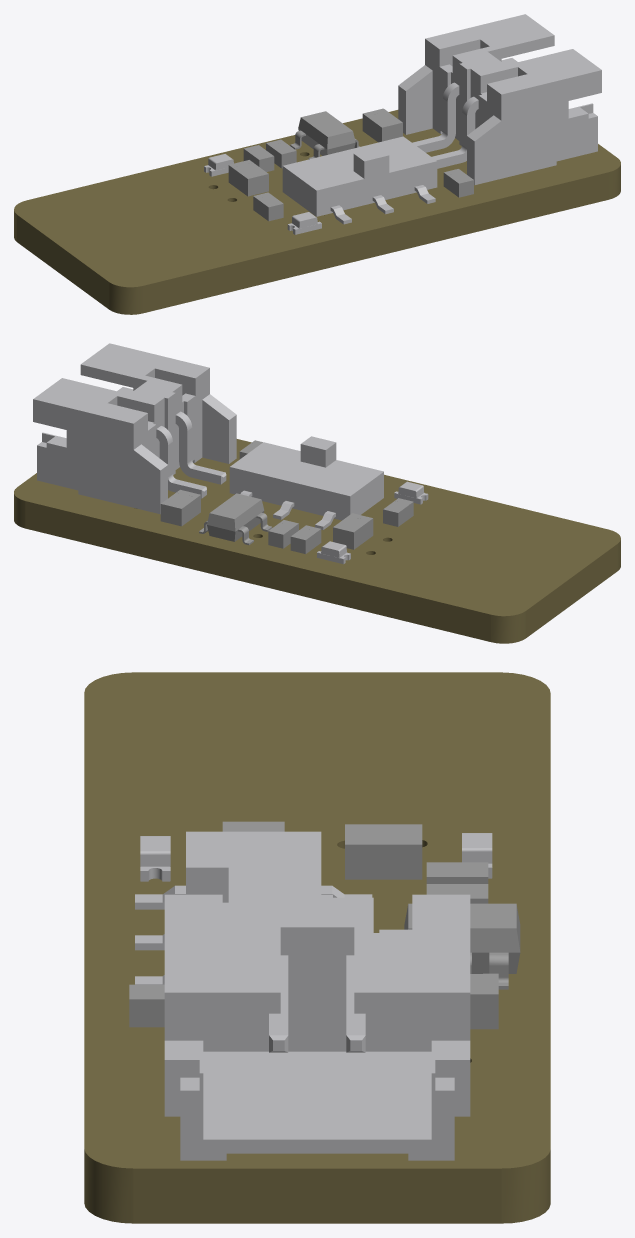
The model's file is ada-1304.glb.
3 views of the same model, one above another, from view 1: azimuth 30°, elevation 25°; view 2: azimuth 150°, elevation 25°; view 3: azimuth 270°, elevation 25° (orthographic). The views are drawn at different scales.
Parts seen in each view (by area): view 1: 0.16666666666666666_0.16666666666666666_0.08333333333333333_, 0.5833333333333334_0.5833333333333334_0.5833333333333334_0.8, 0.3333333333333333_0.3333333333333333_0.3333333333333333_0; view 2: 0.16666666666666666_0.16666666666666666_0.08333333333333333_, 0.5833333333333334_0.5833333333333334_0.5833333333333334_0.8, 0.3333333333333333_0.3333333333333333_0.3333333333333333_0; view 3: 0.16666666666666666_0.16666666666666666_0.08333333333333333_, 0.5833333333333334_0.5833333333333334_0.5833333333333334_0.8, 0.3333333333333333_0.3333333333333333_0.3333333333333333_0.
Part boxes in pixels (x1=…): 0.16666666666666666_0.16666666666666666_0.08333333333333333_: x1=14, y1=110, x2=620, y2=314; 0.5833333333333334_0.5833333333333334_0.5833333333333334_0.8: x1=204, y1=14, x2=601, y2=234; 0.3333333333333333_0.3333333333333333_0.3333333333333333_0: x1=228, y1=108, x2=473, y2=221; 0.16666666666666666_0.16666666666666666_0.08333333333333333_: x1=14, y1=439, x2=620, y2=643; 0.5833333333333334_0.5833333333333334_0.5833333333333334_0.8: x1=33, y1=343, x2=428, y2=564; 0.3333333333333333_0.3333333333333333_0.3333333333333333_0: x1=160, y1=440, x2=413, y2=554; 0.16666666666666666_0.16666666666666666_0.08333333333333333_: x1=84, y1=672, x2=550, y2=1223; 0.5833333333333334_0.5833333333333334_0.5833333333333334_0.8: x1=135, y1=831, x2=492, y2=1160; 0.3333333333333333_0.3333333333333333_0.3333333333333333_0: x1=129, y1=821, x2=520, y2=1029.
Size of the model in its own units: 3.04 by 0.6371 by 1.21.
